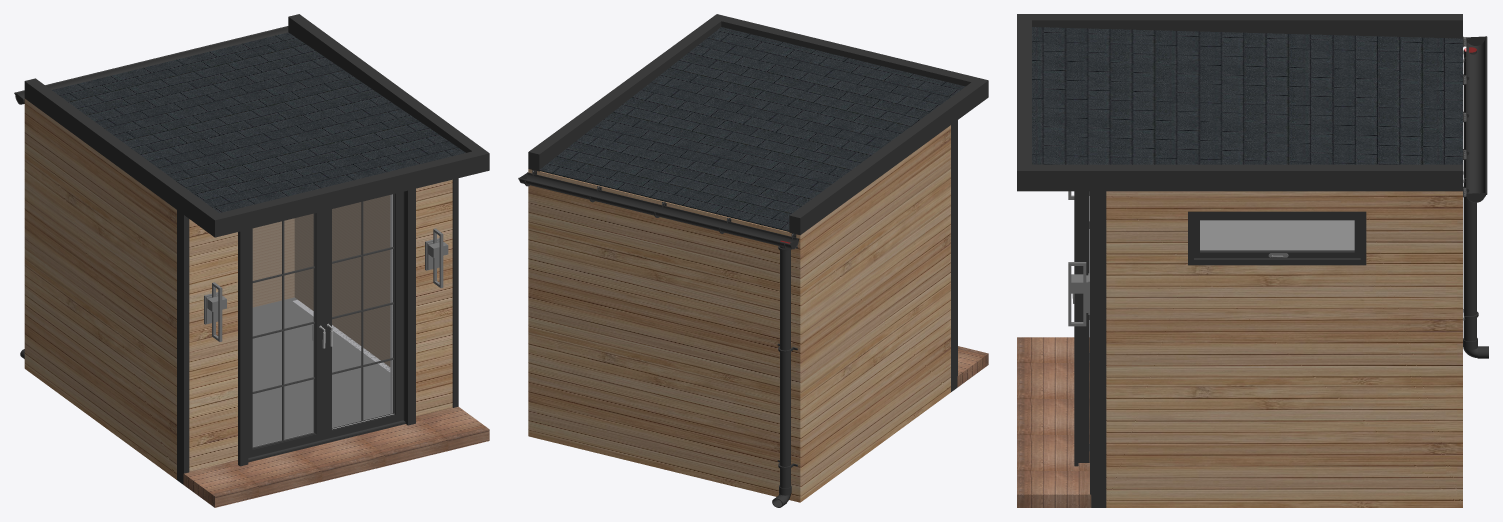
Rendered from GARDEN HOUSE WITH SHNGLE ROOF (2.5MX2.5M).glb.
3 views of the same model, side by side, from view 1: azimuth 30°, elevation 25°; view 2: azimuth 150°, elevation 25°; view 3: azimuth 270°, elevation 25° (orthographic). The views are drawn at different scales.
Parts seen in each view (by area): view 1: EXTERIOR WALLS, FRENCH DOOR OPTION 1 (, FLAT ROOF (ORDINARY), FLASHING (ROOF & FLOOR), WALL FRONT, FLOOR, DECKING, 5" Half Round Gutter#2, EXTERIOR WALL LAMP (×2), INTERIOR WALLS; view 2: EXTERIOR WALLS, FLAT ROOF (ORDINARY), FLASHING (ROOF & FLOOR), 5" Half Round Gutter#2, BAJANTE PLUBIAL, DECKING; view 3: EXTERIOR WALLS, FLAT ROOF (ORDINARY), FLASHING (ROOF & FLOOR), DECKING, NA. VE. W. T-OP.2 (40X120CM), INTERIOR WALLS, FRENCH DOOR OPTION 1 (, 5" Half Round Gutter#2, BAJANTE PLUBIAL, EXTERIOR WALL LAMP.
Part boxes in pixels (box(x1,y1,x2,y2)): EXTERIOR WALLS: box(24, 98, 390, 479); FRENCH DOOR OPTION 1 (: box(238, 188, 415, 466); FLAT ROOF (ORDINARY): box(52, 32, 465, 212); FLASHING (ROOF & FLOOR): box(24, 14, 489, 484); WALL FRONT: box(189, 179, 452, 471); FLOOR: box(252, 297, 390, 446); DECKING: box(183, 406, 489, 507); 5" Half Round Gutter#2: box(14, 26, 288, 104); EXTERIOR WALL LAMP (×2): box(204, 228, 448, 341); INTERIOR WALLS: box(293, 194, 392, 412); EXTERIOR WALLS: box(528, 125, 950, 502); FLAT ROOF (ORDINARY): box(539, 27, 965, 231); FLASHING (ROOF & FLOOR): box(528, 14, 988, 391); 5" Half Round Gutter#2: box(518, 172, 798, 249); BAJANTE PLUBIAL: box(777, 241, 797, 488); DECKING: box(957, 346, 988, 387); EXTERIOR WALLS: box(1106, 191, 1462, 507); FLAT ROOF (ORDINARY): box(1032, 27, 1462, 164); FLASHING (ROOF & FLOOR): box(1017, 14, 1462, 507); DECKING: box(1017, 337, 1091, 507); NA. VE. W. T-OP.2 (40X120CM): box(1188, 211, 1366, 265); INTERIOR WALLS: box(1200, 220, 1354, 250); FRENCH DOOR OPTION 1 (: box(1074, 191, 1089, 466); 5" Half Round Gutter#2: box(1466, 36, 1487, 202); BAJANTE PLUBIAL: box(1463, 47, 1478, 341); EXTERIOR WALL LAMP: box(1068, 262, 1089, 326).
Size of the model in its own units: 2.5 by 2.5 by 3.17.
16 materials, 6 textured.
